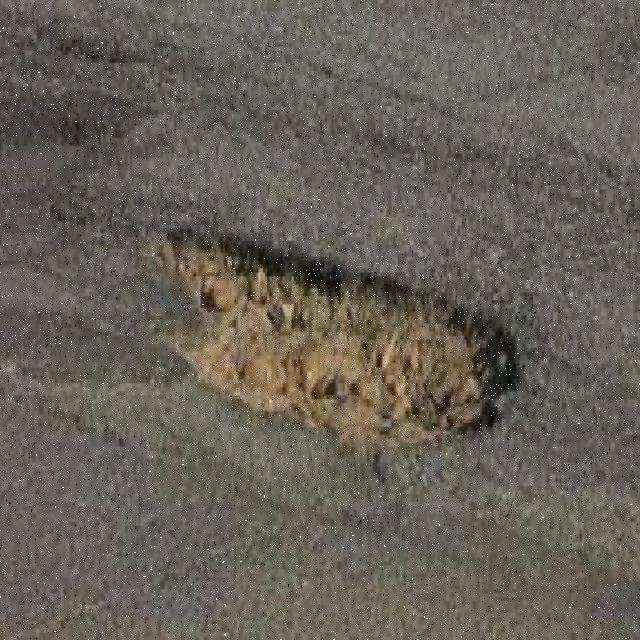pothole: (136, 221, 526, 459)
